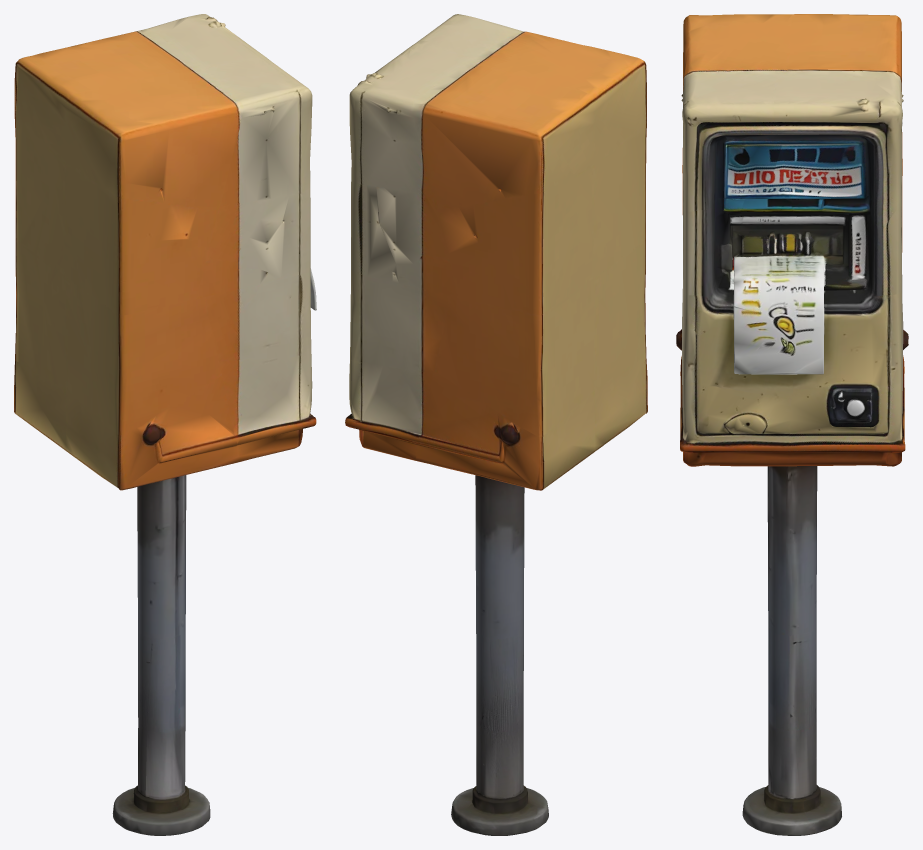
Rendered from bus-ticket.glb.
3 views of the same model, side by side, from view 1: azimuth 30°, elevation 25°; view 2: azimuth 150°, elevation 25°; view 3: azimuth 270°, elevation 25° (orthographic).
Parts seen in each view (by area): view 1: tripo_node_43fd22b7-a47f-4a39-8f81-a6cc11317a80; view 2: tripo_node_43fd22b7-a47f-4a39-8f81-a6cc11317a80; view 3: tripo_node_43fd22b7-a47f-4a39-8f81-a6cc11317a80.
Part boxes in pixels (bbox=[...]): tripo_node_43fd22b7-a47f-4a39-8f81-a6cc11317a80: bbox=[14, 14, 316, 835]; tripo_node_43fd22b7-a47f-4a39-8f81-a6cc11317a80: bbox=[345, 14, 647, 835]; tripo_node_43fd22b7-a47f-4a39-8f81-a6cc11317a80: bbox=[676, 14, 908, 835].
Bounding box in the file's own units: 0.312 × 0.9999 × 0.2767.
1 material, 1 textured.
